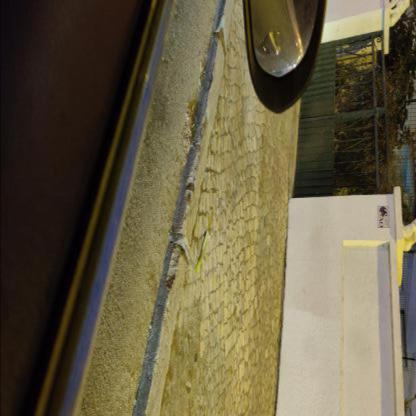Carton: (196, 231, 209, 277)
Cigarette: (131, 374, 134, 386), (199, 62, 201, 72), (192, 103, 194, 111), (199, 78, 201, 86)
